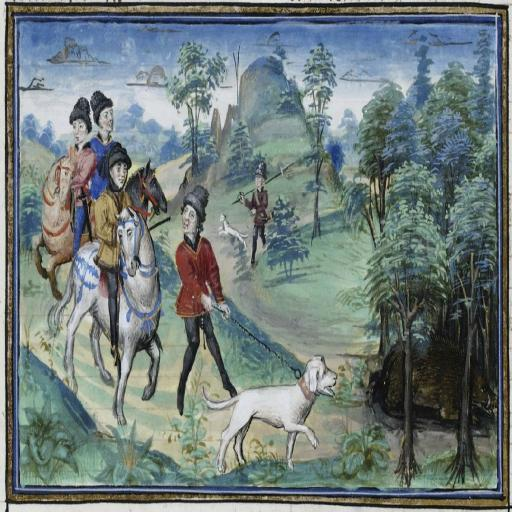horse: (44, 202, 164, 427), (28, 146, 92, 299), (122, 157, 168, 229)
